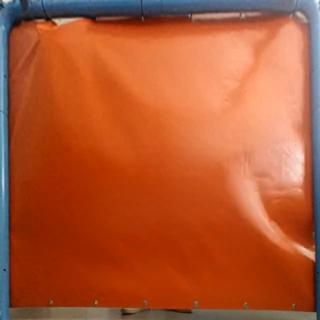Hit-hRxx: (32, 24, 48, 34)
